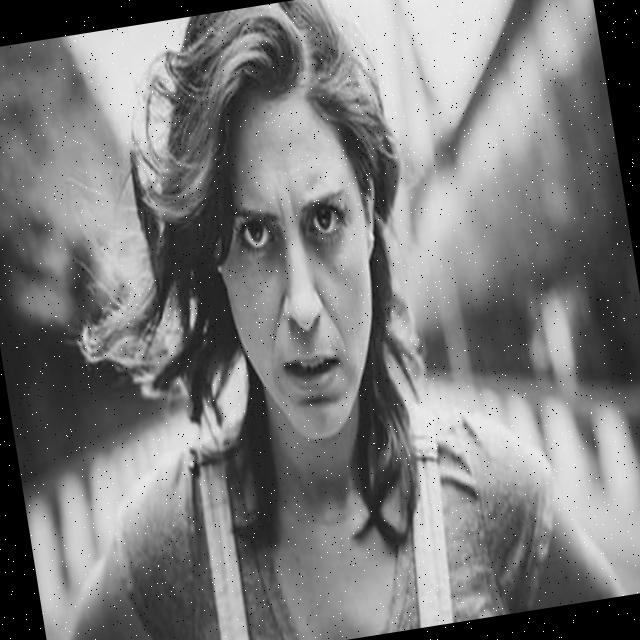Angry: (201, 98, 399, 449)
